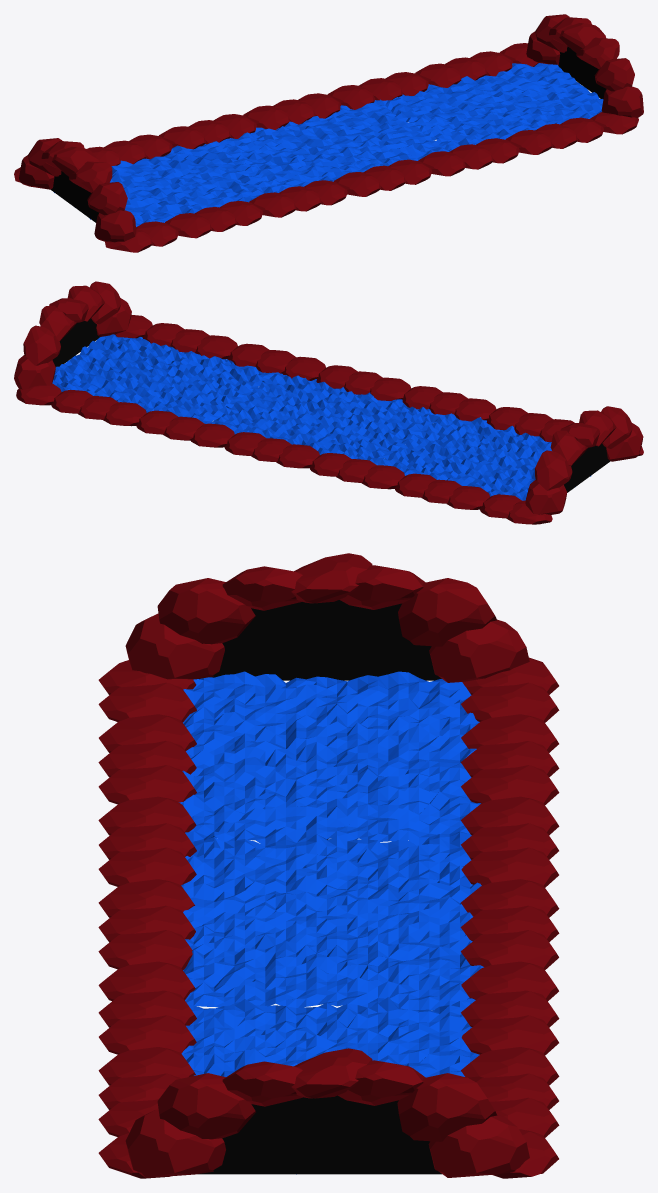
File: NewRiver.fbx
3 views of the same model, one above another, from view 1: azimuth 30°, elevation 25°; view 2: azimuth 150°, elevation 25°; view 3: azimuth 270°, elevation 25° (orthographic). The views are drawn at different scales.
Visible parts, largest first — view 1: Plane, Plane.001, Plane.002, Icosphere.037, Icosphere.048, Circle, Icosphere.044, Icosphere.041, Circle.001, Icosphere.038, Icosphere.047, Icosphere.008 (+41 smaller); view 2: Plane.001, Plane, Plane.002, Icosphere.045, Icosphere.040, Circle, Icosphere.036, Circle.001, Icosphere.049, Icosphere.002, Icosphere.044, Icosphere.005 (+41 smaller); view 3: Plane.001, Plane.002, Plane, Circle, Circle.001, Icosphere.045, Icosphere.040, Icosphere.048, Icosphere.044, Icosphere.049, Icosphere.041, Icosphere.036 (+43 smaller).
Boxes of the visible parts, x1=… form: Plane: x1=380, y1=63, x2=603, y2=151; Plane.001: x1=213, y1=100, x2=449, y2=191; Plane.002: x1=54, y1=142, x2=279, y2=226; Icosphere.037: x1=94, y1=210, x2=136, y2=242; Icosphere.048: x1=601, y1=86, x2=643, y2=117; Circle: x1=558, y1=46, x2=606, y2=98; Icosphere.044: x1=594, y1=58, x2=634, y2=91; Icosphere.041: x1=87, y1=182, x2=127, y2=215; Circle.001: x1=50, y1=171, x2=98, y2=222; Icosphere.038: x1=69, y1=161, x2=112, y2=192; Icosphere.047: x1=576, y1=37, x2=619, y2=68; Icosphere.008: x1=418, y1=151, x2=465, y2=176; Plane.001: x1=206, y1=372, x2=444, y2=464; Plane: x1=52, y1=334, x2=275, y2=423; Plane.002: x1=376, y1=413, x2=591, y2=500; Icosphere.045: x1=23, y1=325, x2=60, y2=365; Icosphere.040: x1=535, y1=450, x2=572, y2=490; Circle: x1=52, y1=318, x2=99, y2=366; Icosphere.036: x1=525, y1=480, x2=567, y2=514; Circle.001: x1=564, y1=443, x2=610, y2=492; Icosphere.049: x1=14, y1=355, x2=55, y2=389; Icosphere.002: x1=191, y1=423, x2=234, y2=447; Icosphere.044: x1=89, y1=281, x2=121, y2=324; Icosphere.005: x1=276, y1=444, x2=319, y2=468; Plane.001: x1=181, y1=834, x2=483, y2=1010; Plane.002: x1=179, y1=671, x2=480, y2=845; Plane: x1=181, y1=997, x2=479, y2=1174; Circle: x1=198, y1=1095, x2=441, y2=1174; Circle.001: x1=199, y1=600, x2=441, y2=680; Icosphere.045: x1=397, y1=1073, x2=497, y2=1141; Icosphere.040: x1=398, y1=578, x2=496, y2=646; Icosphere.048: x1=125, y1=1108, x2=225, y2=1177; Icosphere.044: x1=157, y1=1073, x2=255, y2=1139; Icosphere.049: x1=428, y1=1114, x2=529, y2=1177; Icosphere.041: x1=157, y1=578, x2=255, y2=644; Icosphere.036: x1=429, y1=619, x2=529, y2=682.
Size of the model in its own units: 1818 by 202 by 667.
